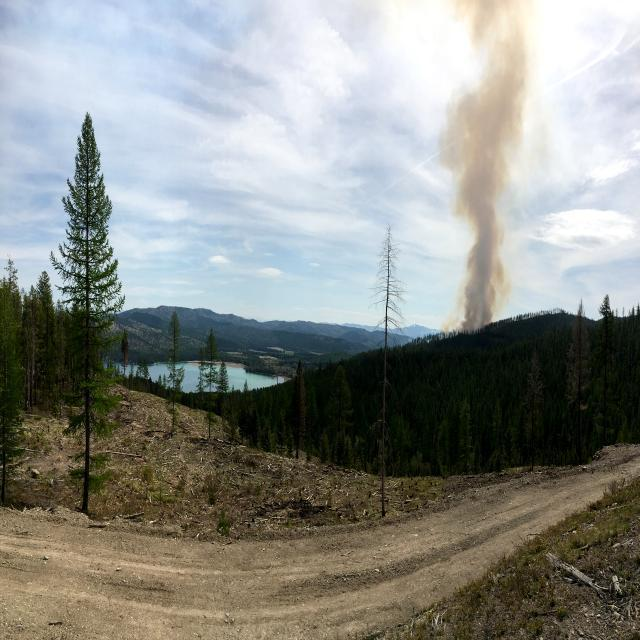Smoke: (426, 0, 572, 347)
